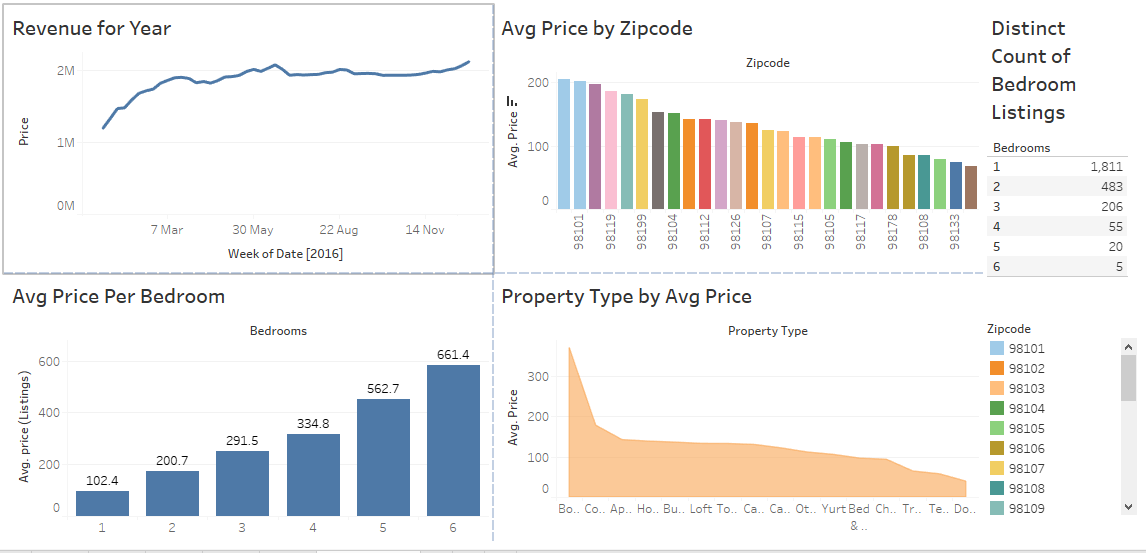

The page's visual inventory and layout, read from the dashboard file:
{"tool":"tableau","page":{"name":"Dashboard 1","canvas":[1000,1000],"units":"permille","ordinal":0},"visuals":[{"type":"worksheet","title":"Sheet 3","mark":"Automatic","rows":["price"],"cols":["date"],"box":[6.9,14.5,423.8,485.5]},{"type":"worksheet","title":"Sheet 1","mark":"Automatic","rows":["price"],"cols":["zipcode"],"box":[430.7,14.5,423.8,485.5]},{"type":"worksheet","title":"Sheet 5","mark":"Automatic","rows":["bedrooms"],"box":[854.5,14.5,138.5,563.4]},{"type":"worksheet","title":"Sheet 4","mark":"Automatic","rows":["price (Listings)"],"cols":["bedrooms"],"box":[6.9,500,423.8,485.5]},{"type":"worksheet","title":"Sheet 6","mark":"Area","rows":["price"],"cols":["property_type"],"box":[430.7,500,423.8,485.5]},{"type":"legend","title":"Sheet 1","param":"[federated.0ufdcfo0flsqxy1ck62ax1qslsfm].[none:zipcode:ok]","box":[854.5,577.9,138.5,367.8]},{"type":"legend","title":"Sheet 6","param":"[federated.0ufdcfo0flsqxy1ck62ax1qslsfm].[sum:price:qk]","box":[854.5,945.7,138.5,39.9]}]}

Visuals, with their boxes on the dashboard's canvas, which has no fixed pixel size, in thousandths of its width and height (x1, y1, x2, y2). These are canvas units, not pixel positions in the 1146x553 screenshot, which may show the page scaled, cropped or inside an application window:
"Sheet 3" worksheet: x1=7 y1=14 x2=431 y2=500
"Sheet 1" worksheet: x1=431 y1=14 x2=854 y2=500
"Sheet 5" worksheet: x1=854 y1=14 x2=993 y2=578
"Sheet 4" worksheet: x1=7 y1=500 x2=431 y2=986
"Sheet 6" worksheet (Area marks): x1=431 y1=500 x2=854 y2=986
"Sheet 1" legend: x1=854 y1=578 x2=993 y2=946
"Sheet 6" legend: x1=854 y1=946 x2=993 y2=986
